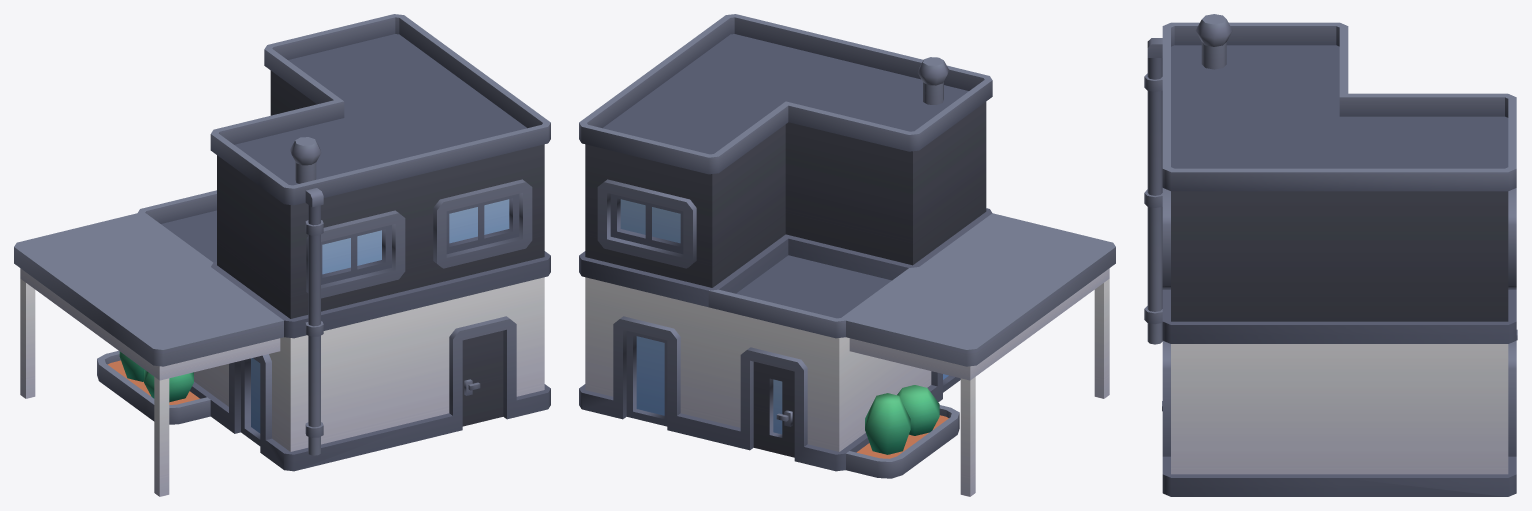
The model's file is kenney-city-suburban-building-type-q.glb.
3 renders of one model, left to right at view 1: azimuth 30°, elevation 25°; view 2: azimuth 150°, elevation 25°; view 3: azimuth 270°, elevation 25°, orthographic. The views are drawn at different scales.
Visible parts, largest first — view 1: building-type-q; view 2: building-type-q; view 3: building-type-q.
Part boxes in pixels (x1,y1,x2,y2): building-type-q: (14, 14, 550, 496); building-type-q: (579, 14, 1115, 496); building-type-q: (1144, 14, 1517, 496).
Bounding box in the file's own units: 1.24 × 0.918 × 0.8856.
Materials: 1 (1 with a texture image).
